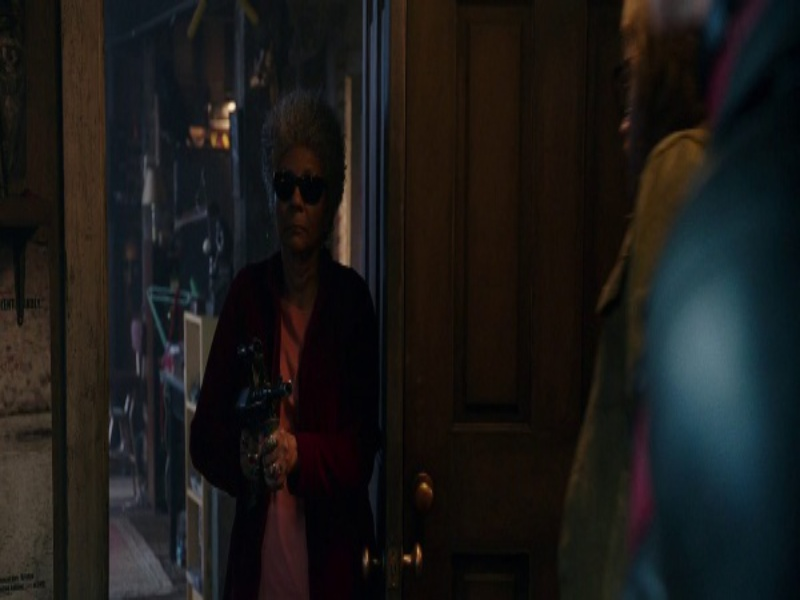person: (187, 83, 385, 594), (558, 1, 728, 595)
weapon: (225, 348, 291, 502)
